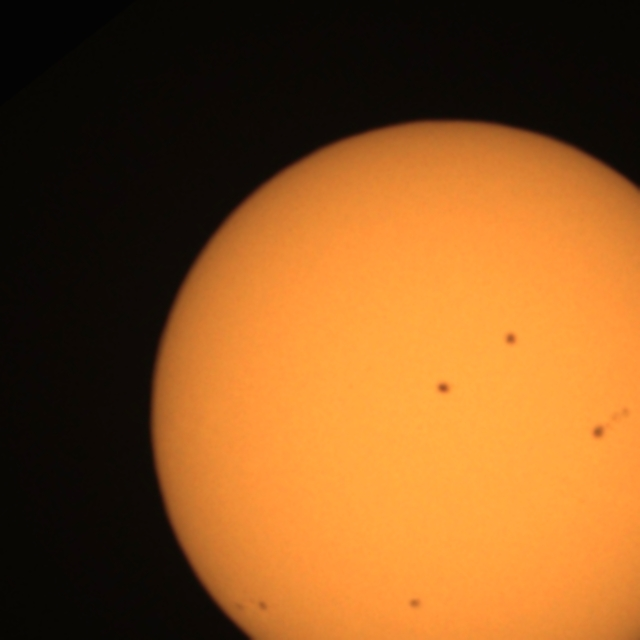sunspot: (588, 403, 634, 445), (232, 597, 269, 616), (588, 422, 609, 444), (501, 328, 522, 350), (433, 378, 454, 398), (406, 594, 425, 612), (256, 598, 270, 614)
